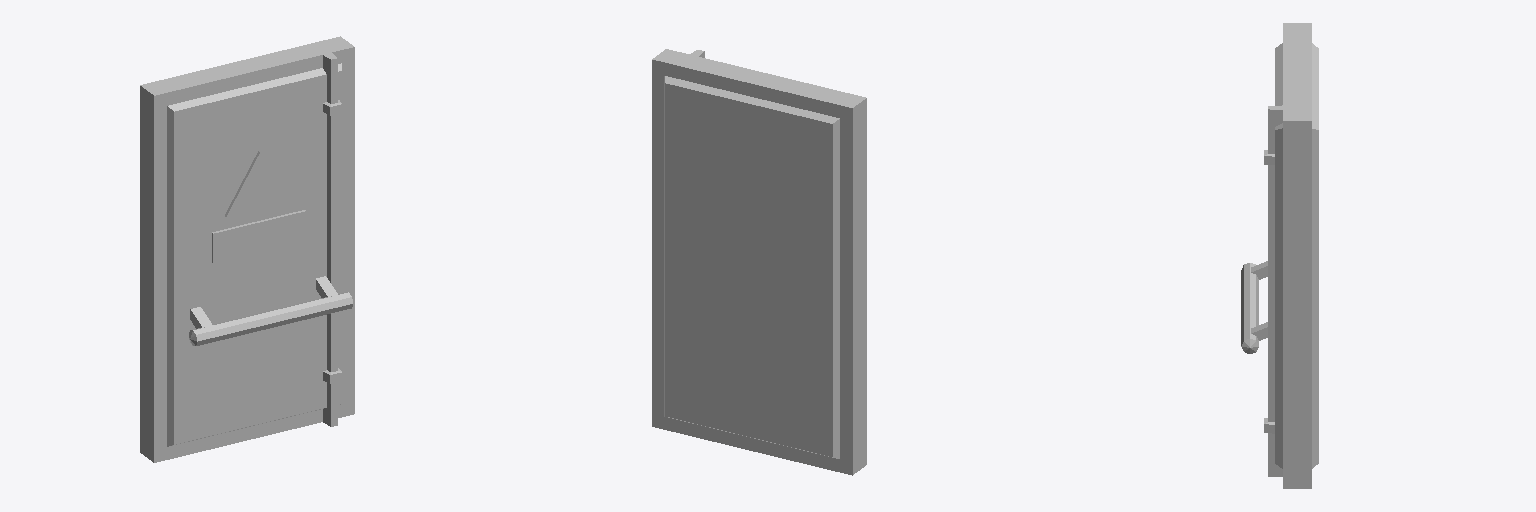
File: Door_B.obj
The picture shows the model from 3 angles: view 1: azimuth 30°, elevation 25°; view 2: azimuth 150°, elevation 25°; view 3: azimuth 270°, elevation 25°; orthographic projection.
Visible parts, largest first — view 1: Door_B_Cube.16501; view 2: Door_B_Cube.16501; view 3: Door_B_Cube.16501.
Part boxes in pixels (left/top/right/bottom): Door_B_Cube.16501: left=140, top=36, right=354, bottom=462; Door_B_Cube.16501: left=652, top=49, right=866, bottom=475; Door_B_Cube.16501: left=1241, top=23, right=1318, bottom=488.
Size of the model in its own units: 1.6 by 2.8 by 0.5357.